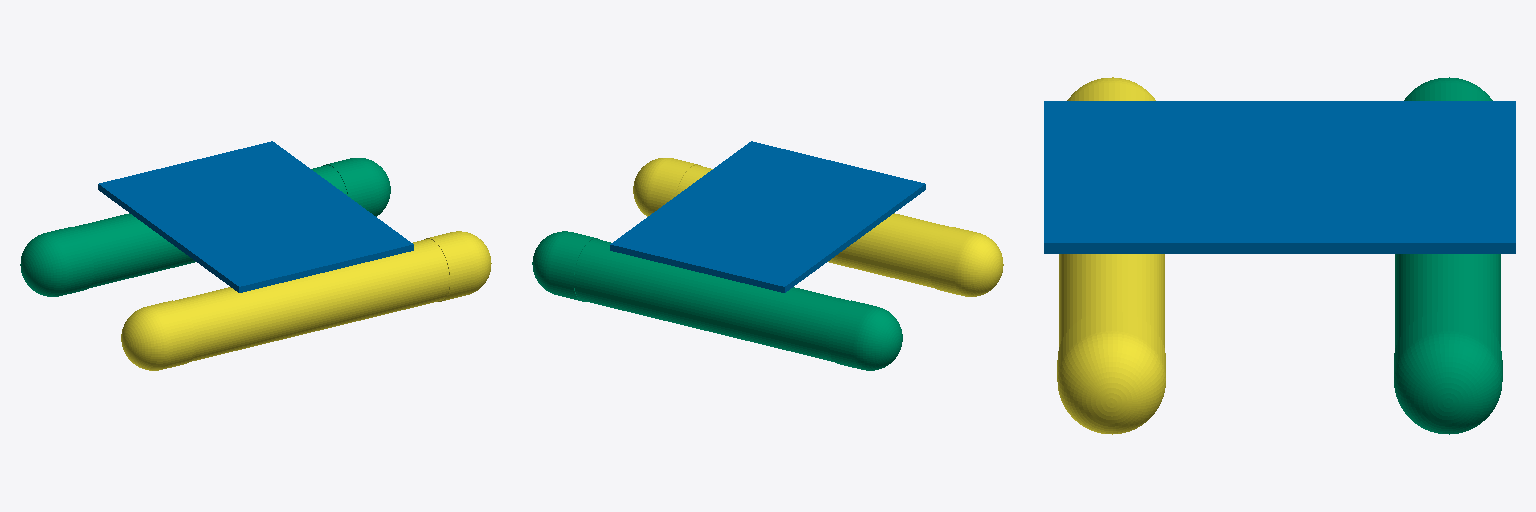
The robot description file, URDF, robot "asv_station_keeping_diag":
<?xml version='1.0' encoding='utf-8'?>
<robot name="asv_station_keeping_diag">
  <!-- Mesh-loading test only. Mounting poses are estimates, not Fusion occurrence transforms. 00_base has no visuals. -->
  <link name="base_footprint" />
  <link name="base_link">
    <inertial>
      <origin xyz="0 0 0" rpy="0 0 0" />
      <mass value="0.1" />
      <inertia ixx="0.0001" ixy="0" ixz="0" iyy="0.0001" iyz="0" izz="0.0001" />
    </inertial>
  </link>
  <link name="hull_left">
    <inertial>
      <origin xyz="0.0017543 -0.0000047 -0.0000010" rpy="0 0 0" />
      <mass value="8.7513272838" />
      <inertia ixx="0.0159438897" ixy="0" ixz="0" iyy="0.7485544942" iyz="0" izz="0.7485544942" />
    </inertial>
    <visual name="hull_left_visual">
      <origin xyz="-0.971730 0.357754 -1.641617" rpy="0 0 -1.57079632679" />
      <geometry>
        <mesh filename="package://asv_station_keeping/meshes/hull.stl" scale="0.001 0.001 0.001" />
      </geometry>
    </visual>
    <collision name="hull_left_collision">
      <geometry>
        <box size="0.724805 0.112973 0.112998" />
      </geometry>
    </collision>
  </link>
  <link name="hull_right">
    <inertial>
      <origin xyz="0.0017543 -0.0000047 -0.0000010" rpy="0 0 0" />
      <mass value="8.7513272838" />
      <inertia ixx="0.0159438897" ixy="0" ixz="0" iyy="0.7485544942" iyz="0" izz="0.7485544942" />
    </inertial>
    <visual name="hull_right_visual">
      <origin xyz="-0.971730 0.357754 -1.641617" rpy="0 0 -1.57079632679" />
      <geometry>
        <mesh filename="package://asv_station_keeping/meshes/hull.stl" scale="0.001 0.001 0.001" />
      </geometry>
    </visual>
    <collision name="hull_right_collision">
      <geometry>
        <box size="0.724805 0.112973 0.112998" />
      </geometry>
    </collision>
  </link>
  <link name="base_deck">
    <inertial>
      <origin xyz="0 0 0" rpy="0 0 0" />
      <mass value="16.1553" />
      <inertia ixx="0.3234344911" ixy="0" ixz="0" iyy="0.1651125511" iyz="0" izz="0.4881593150" />
    </inertial>
    <visual name="base_deck_visual">
      <origin xyz="-0.142254 -0.216347 -0.006000" rpy="1.57079632679 0 0" />
      <geometry>
        <mesh filename="package://asv_station_keeping/meshes/base_deck.stl" scale="0.001 0.001 0.001" />
      </geometry>
    </visual>
    <collision name="base_deck_collision">
      <geometry>
        <box size="0.350 0.490 0.012" />
      </geometry>
    </collision>
  </link>
  <joint name="base_footprint_to_base_link" type="fixed">
    <parent link="base_footprint" />
    <child link="base_link" />
    <origin xyz="0 0 0" rpy="0 0 0" />
  </joint>
  <joint name="base_to_hull_left" type="fixed">
    <parent link="base_link" />
    <child link="hull_left" />
    <origin xyz="0 0.175 0.055" rpy="0 0 0" />
  </joint>
  <joint name="base_to_hull_right" type="fixed">
    <parent link="base_link" />
    <child link="hull_right" />
    <origin xyz="0 -0.175 0.055" rpy="0 0 0" />
  </joint>
  <joint name="base_to_base_deck" type="fixed">
    <parent link="base_link" />
    <child link="base_deck" />
    <origin xyz="0 0 0.145" rpy="0 0 0" />
  </joint>
</robot>

--- What the picture shows (computed from the rendered views, not written in the file) ---
Views: 3 orthographic renders of the robot side by side, from view 1: azimuth 30°, elevation 25°; view 2: azimuth 150°, elevation 25°; view 3: azimuth 270°, elevation 25°.
Model asv_station_keeping_diag with 5 links and 4 joints (4 fixed), rooted at base_footprint, posed all joints at 0.
Visible links, largest first — view 1: base_deck, hull_right, hull_left; view 2: base_deck, hull_left, hull_right; view 3: base_deck, hull_left, hull_right.
Link boxes in pixels (left/top/right/bottom): base_deck: left=98, top=141, right=413, bottom=292; hull_right: left=121, top=231, right=491, bottom=370; hull_left: left=20, top=158, right=390, bottom=296; base_deck: left=610, top=141, right=925, bottom=292; hull_left: left=532, top=231, right=902, bottom=370; hull_right: left=633, top=158, right=1003, bottom=296; base_deck: left=1044, top=101, right=1515, bottom=253; hull_left: left=1394, top=77, right=1502, bottom=434; hull_right: left=1057, top=77, right=1165, bottom=434.
Bounding box of the posed robot: 0.7248 × 0.49 × 0.1525 m (x, y, z).
Meshes: 2 distinct files referenced, 3 mesh visuals loaded (2 binary STL).
